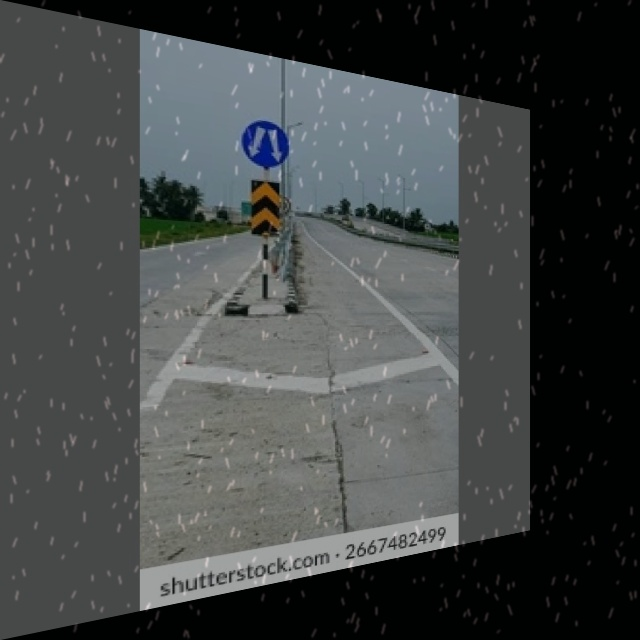Pass_Either_Side: (236, 111, 293, 176)
